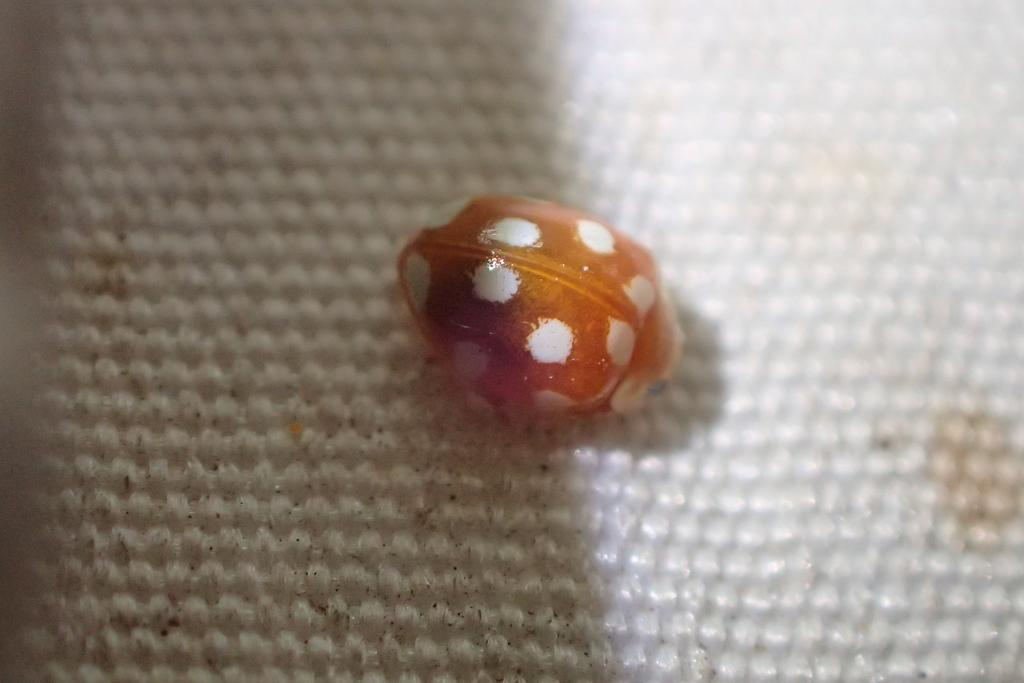ladybug: (395, 193, 689, 427)
